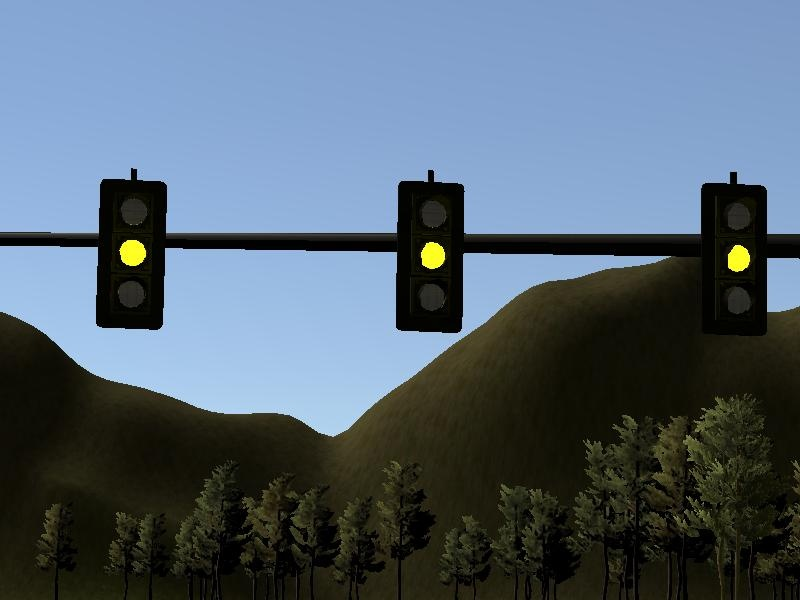yellow: (695, 169, 773, 342), (92, 163, 169, 337), (391, 166, 468, 339)
